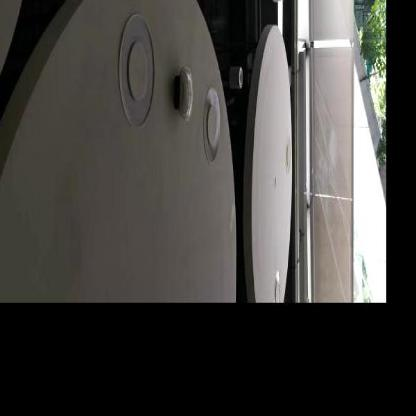light_off: (116, 0, 158, 141), (198, 66, 223, 166)
